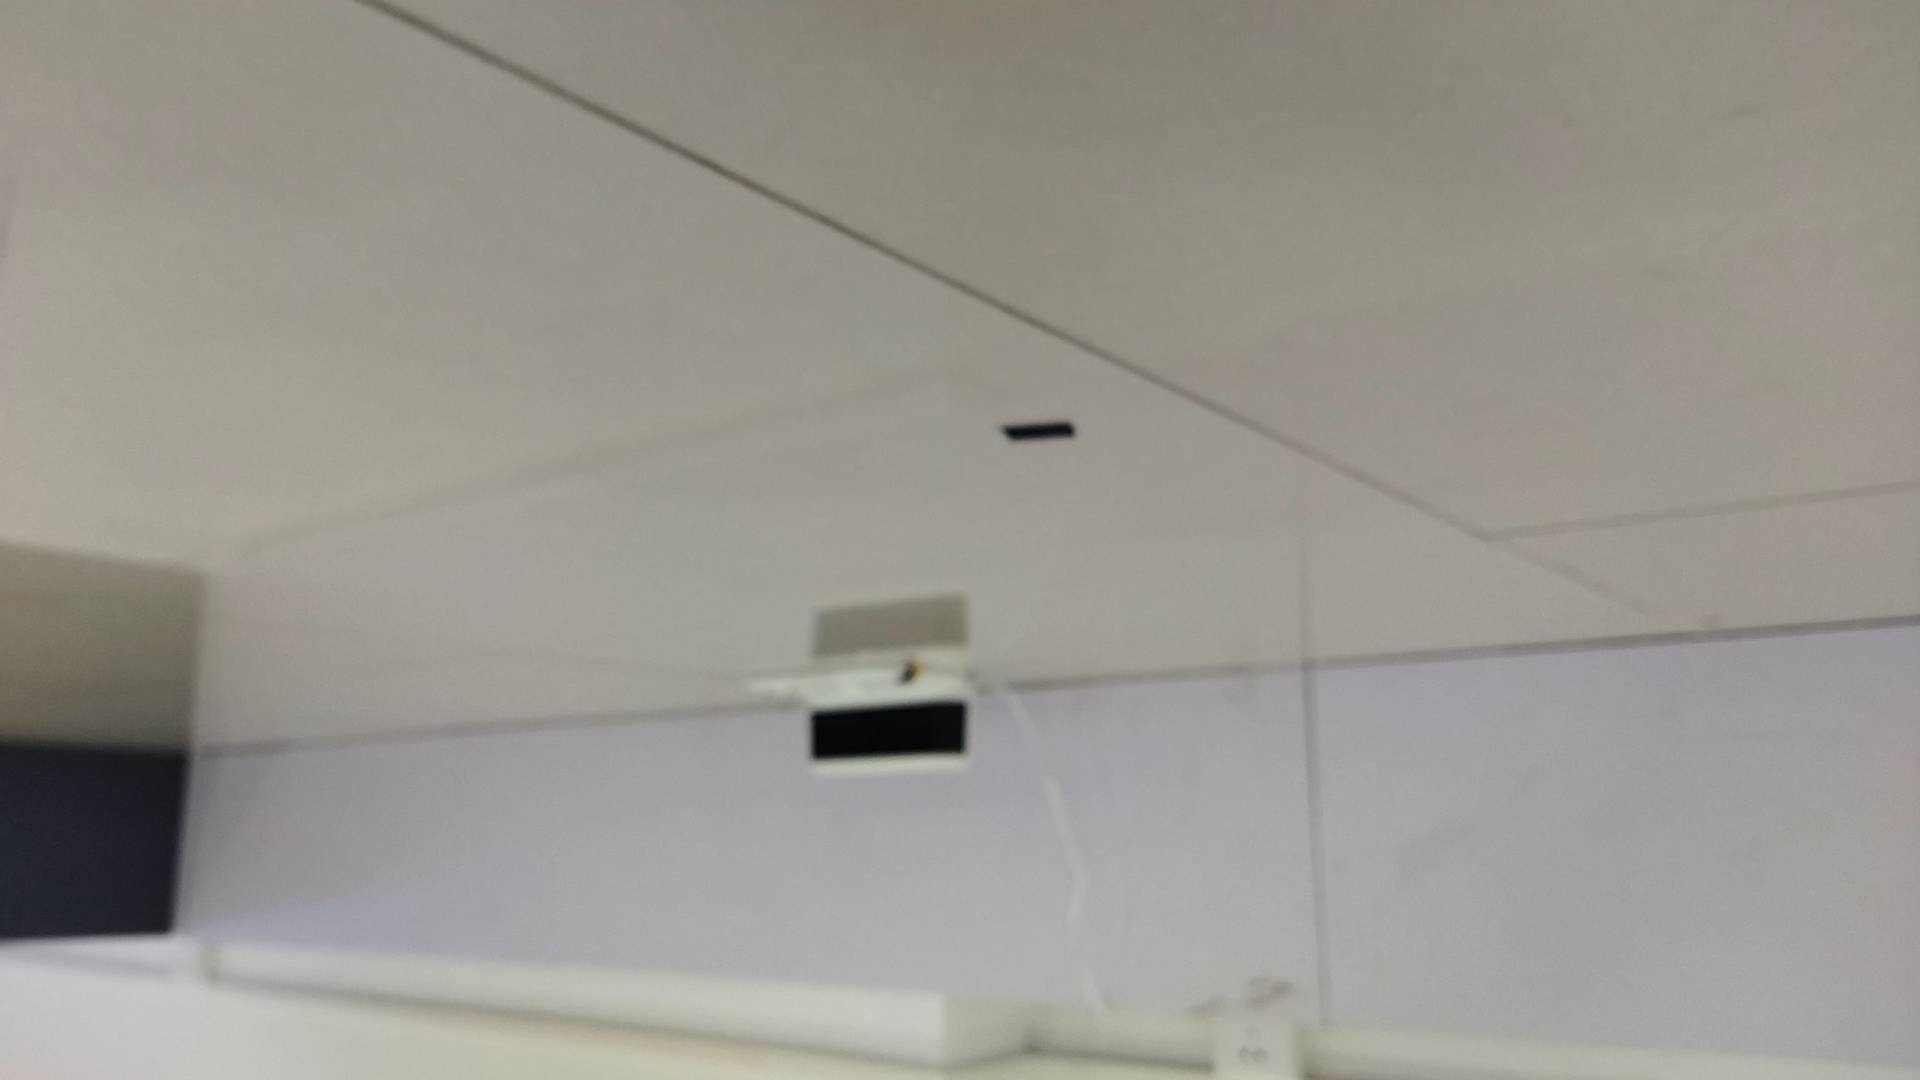recharge seat: (745, 638, 984, 777)
